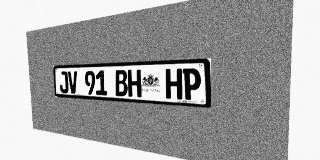1: (95, 70, 107, 95)
9: (85, 71, 96, 95)
B: (115, 70, 128, 96)
H: (165, 68, 182, 99), (127, 69, 142, 97)
J: (59, 71, 69, 93)
P: (183, 68, 201, 100)
V: (68, 71, 78, 94)
